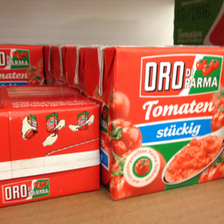tomato_sauce: (82, 44, 224, 203), (1, 84, 99, 208)
